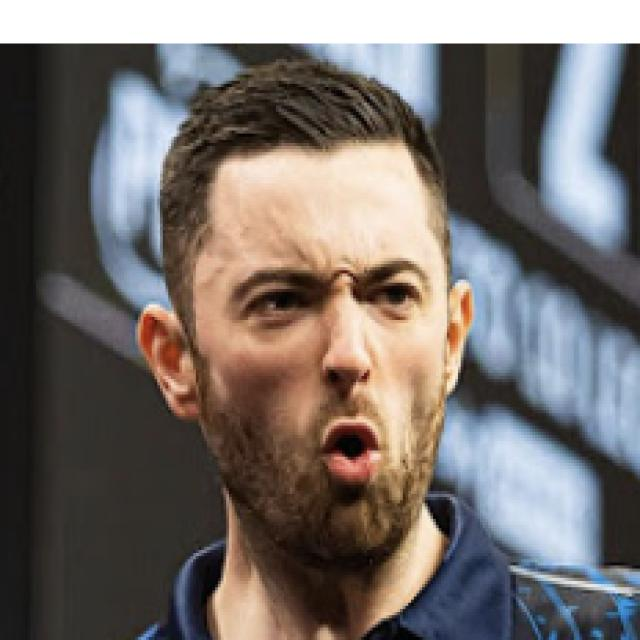angry: (128, 61, 478, 528)
